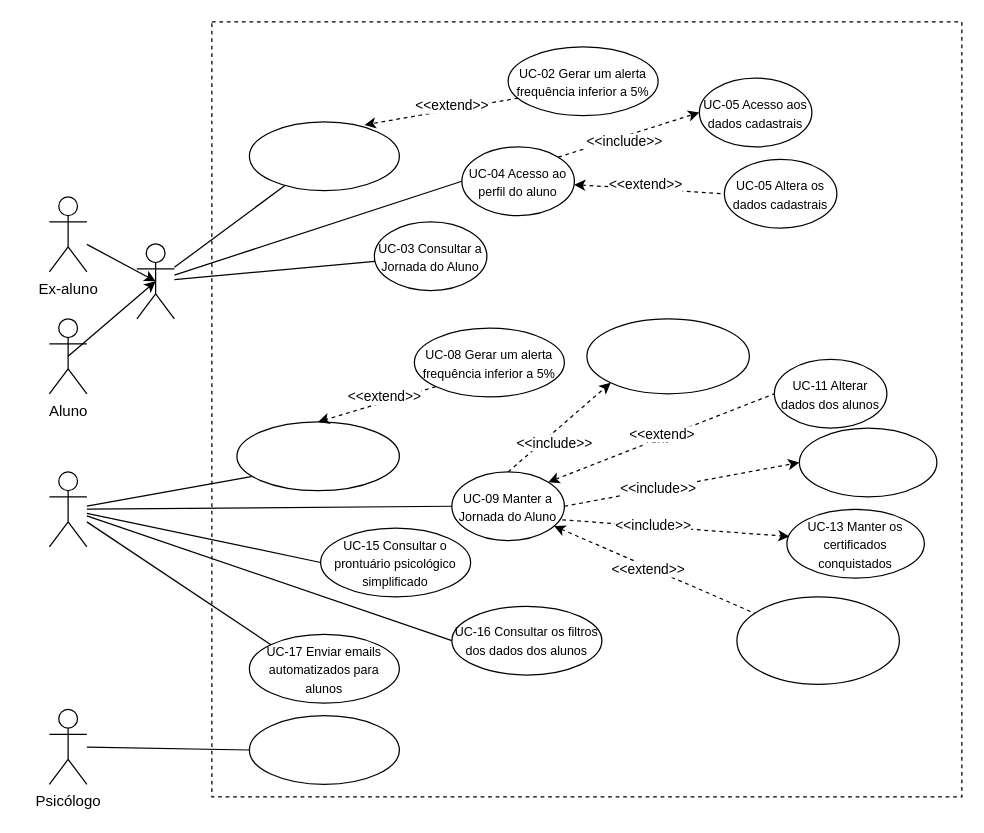
The diagram is 984 pixels wide and 833 high, and some of its shapes have lost their labels. Each missing label, with the centre of its shape:
Administrador: the point at 67,509
Alunos: the point at 155,280
UC-01 Consultar as frequências nos eventos/cursos: the point at 323,156
UC-07 Registro de frequência dos alunos nos eventos/cursos: the point at 317,456
UC-10 Visualizar os dados individuais do aluno: the point at 667,356
UC-12 Manter os programas cursados: the point at 867,462
UC-14 Manter a situação de empregabilidade do aluno: the point at 817,640
UC-18 Registro de prontuários de saúde mental: the point at 323,749
